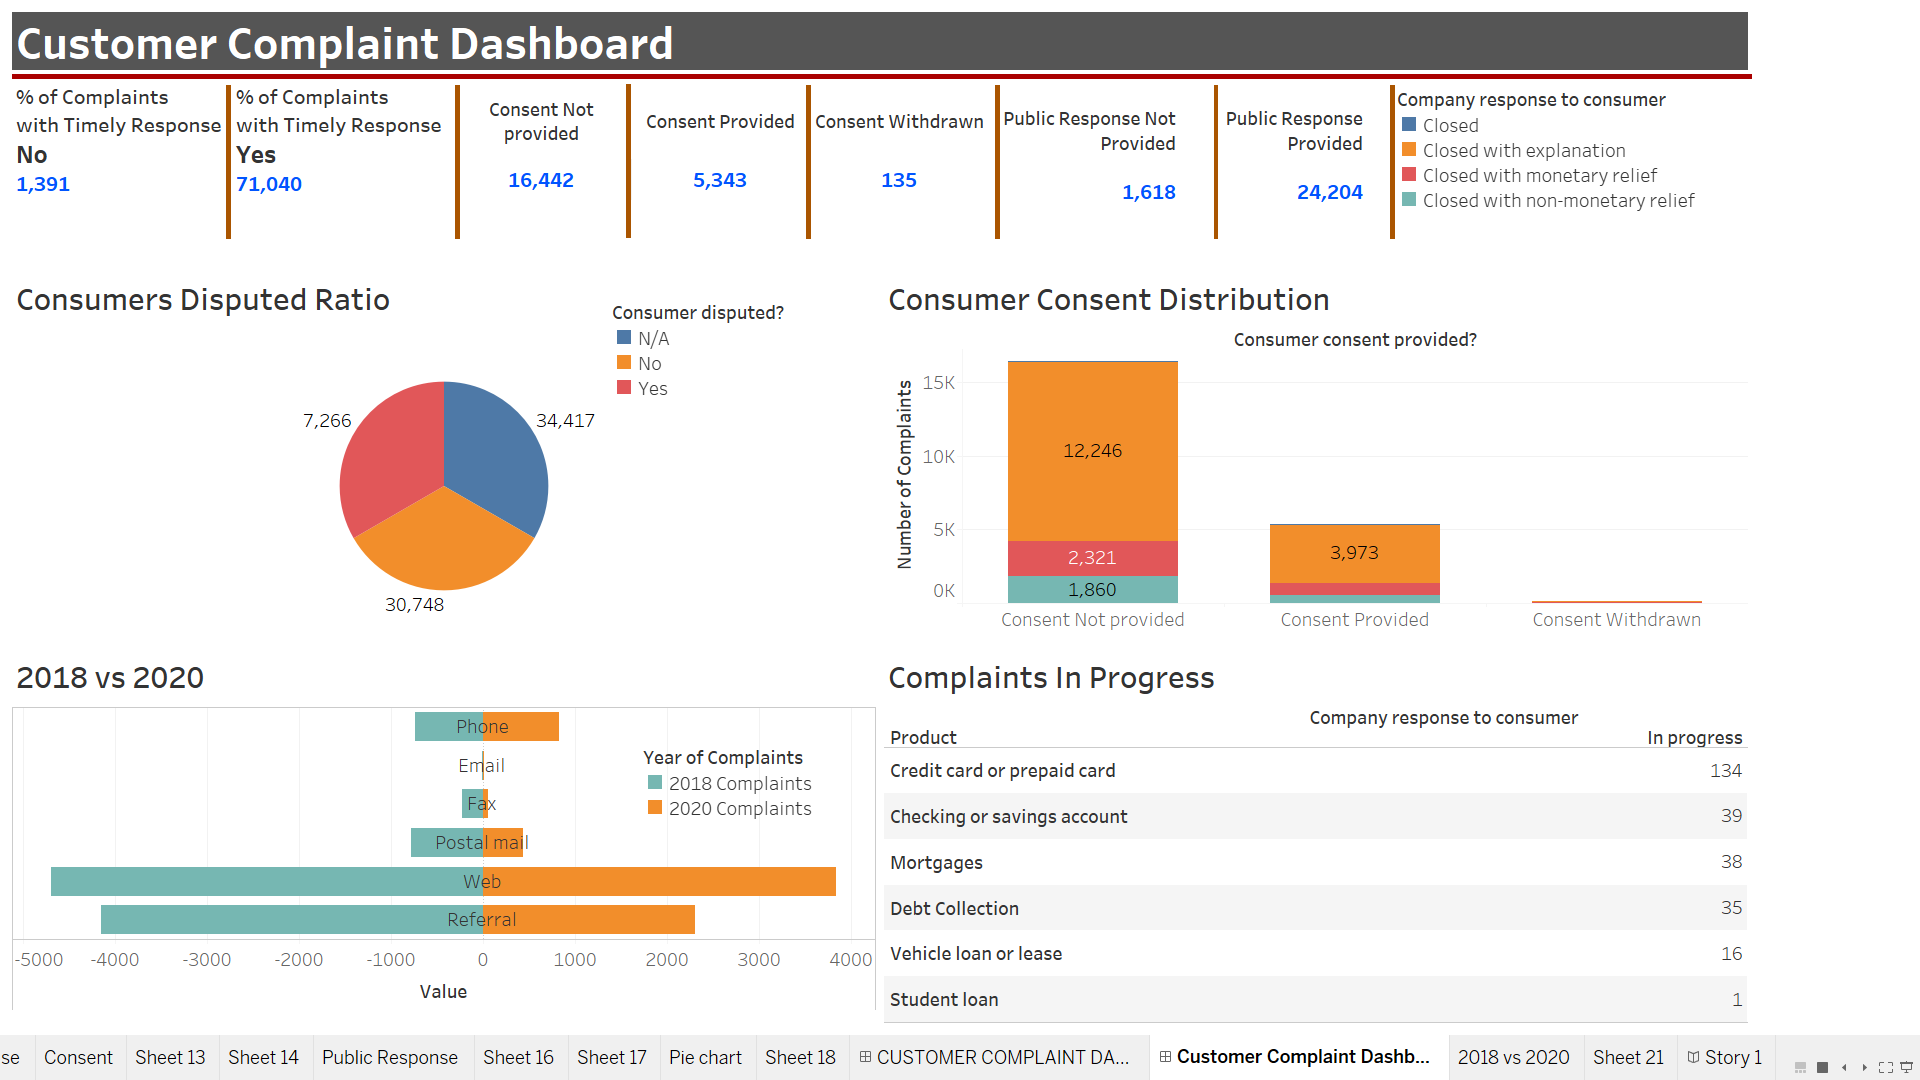

The page's visual inventory and layout, read from the dashboard file:
{"tool":"tableau","page":{"name":"Customer Complaint Dashboard","canvas":[1000,1000],"units":"permille","ordinal":1},"visuals":[{"type":"title","box":[4.2,7.7,908.3,63.8]},{"type":"blank","box":[4.2,71.5,908.3,4.8]},{"type":"worksheet","title":"Timely Response","mark":"Automatic","cols":["Timely response?"],"box":[4.2,76.3,231.2,183.6]},{"type":"worksheet","title":"Consent","mark":"Automatic","cols":["Consumer consent provided?"],"box":[235.4,76.3,281.8,183.6]},{"type":"worksheet","title":"Public Response","mark":"Automatic","cols":["Company public response"],"box":[517.2,76.3,196.9,183.6]},{"type":"blank","box":[714.1,76.3,198.4,183.6]},{"type":"blank","box":[326,80.9,2.5,149.2]},{"type":"blank","box":[117.7,82,2.5,149.2]},{"type":"blank","box":[237.2,82,2.5,149.2]},{"type":"blank","box":[419.9,82,2.5,149.2]},{"type":"blank","box":[518.1,82,2.5,149.2]},{"type":"blank","box":[632,82,2.5,149.2]},{"type":"blank","box":[724,82,2.5,149.2]},{"type":"legend","title":"Sheet 13","param":"[federated.0i4tjei10r5xyn19pr3h50o0maj2].[none:Company response to consumer:nk]","box":[727.8,83.1,167.7,231.2]},{"type":"worksheet","title":"Pie chart","mark":"Pie","box":[4.2,259.9,454.2,365.2]},{"type":"worksheet","title":"Sheet 13","mark":"Automatic","rows":["Number of Complaints"],"cols":["Consumer consent provided?"],"box":[458.3,259.9,454.2,365.2]},{"type":"legend","title":"Pie chart","param":"[federated.0i4tjei10r5xyn19pr3h50o0maj2].[none:Consumer disputed?:nk]","box":[318.5,289.3,116.4,115]},{"type":"worksheet","title":"2018 vs 2020","mark":"Automatic","rows":["Submitted via"],"cols":["Calculation_1206964712521441297"],"box":[4.2,625.1,454.2,367.2]},{"type":"worksheet","title":"Sheet 18","mark":"Automatic","rows":["Product"],"cols":["Company response to consumer"],"box":[458.3,625.1,454.2,367.2]},{"type":"legend","title":"2018 vs 2020","param":"[federated.0i4tjei10r5xyn19pr3h50o0maj2].[:Measure Names]","box":[334.8,718.7,108.9,86.6]}]}

Visuals, with their boxes on the dashboard's canvas, which has no fixed pixel size, in thousandths of its width and height (x1, y1, x2, y2). These are canvas units, not pixel positions in the 1920x1080 screenshot, which may show the page scaled, cropped or inside an application window:
title: 4, 8, 912, 72
blank: 4, 72, 912, 76
"Timely Response" worksheet: 4, 76, 235, 260
"Consent" worksheet: 235, 76, 517, 260
"Public Response" worksheet: 517, 76, 714, 260
blank: 714, 76, 912, 260
blank: 326, 81, 328, 230
blank: 118, 82, 120, 231
blank: 237, 82, 240, 231
blank: 420, 82, 422, 231
blank: 518, 82, 521, 231
blank: 632, 82, 634, 231
blank: 724, 82, 726, 231
"Sheet 13" legend: 728, 83, 896, 314
"Pie chart" worksheet (Pie marks): 4, 260, 458, 625
"Sheet 13" worksheet: 458, 260, 912, 625
"Pie chart" legend: 318, 289, 435, 404
"2018 vs 2020" worksheet: 4, 625, 458, 992
"Sheet 18" worksheet: 458, 625, 912, 992
"2018 vs 2020" legend: 335, 719, 444, 805
